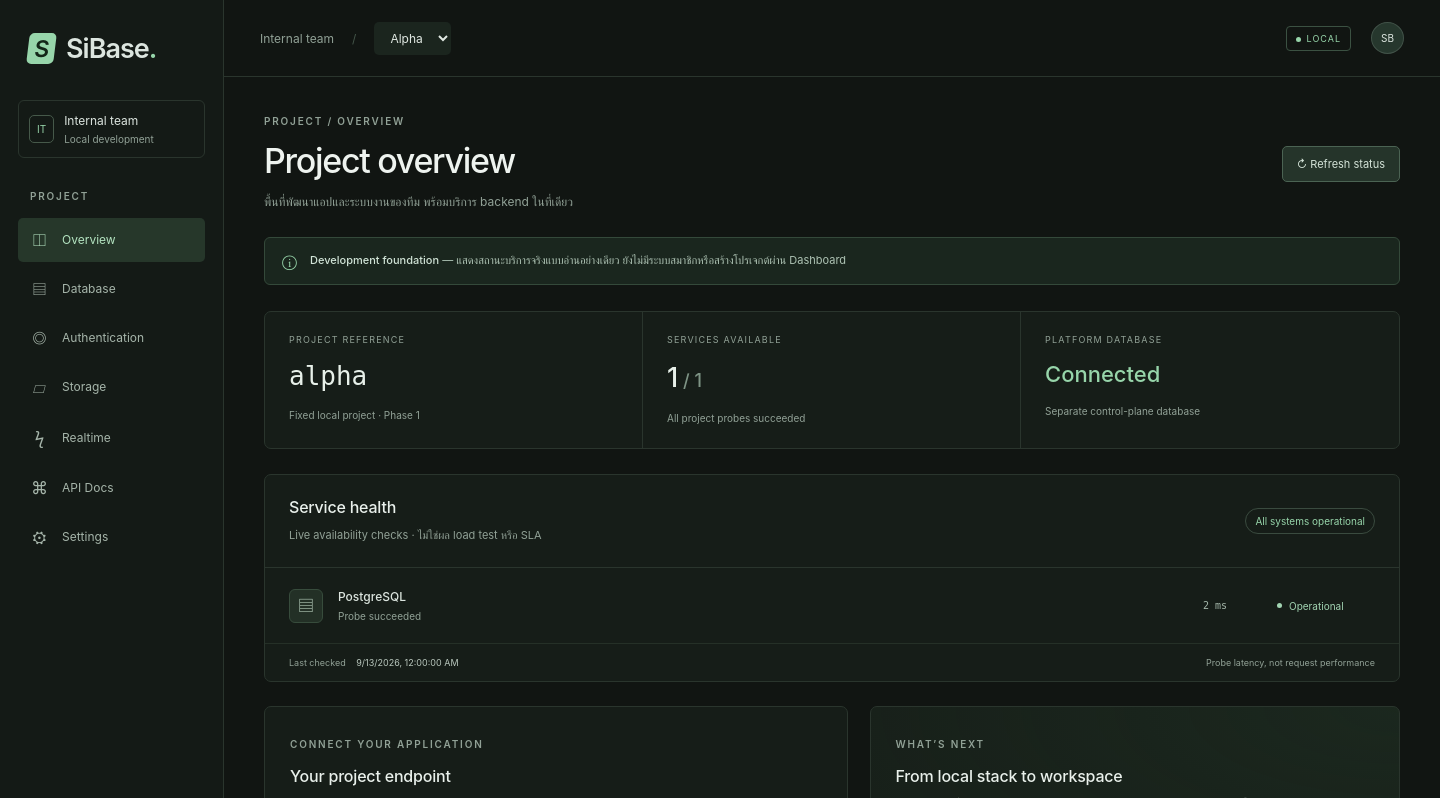
Test case: Dashboard foundation › does not present stale data as newly verified
Expected: the text "All systems operational" is shown, [1245,508,1375,534]
Click the button "↻ Refresh status".
click(1341, 164)  # box [1282,146,1400,182]
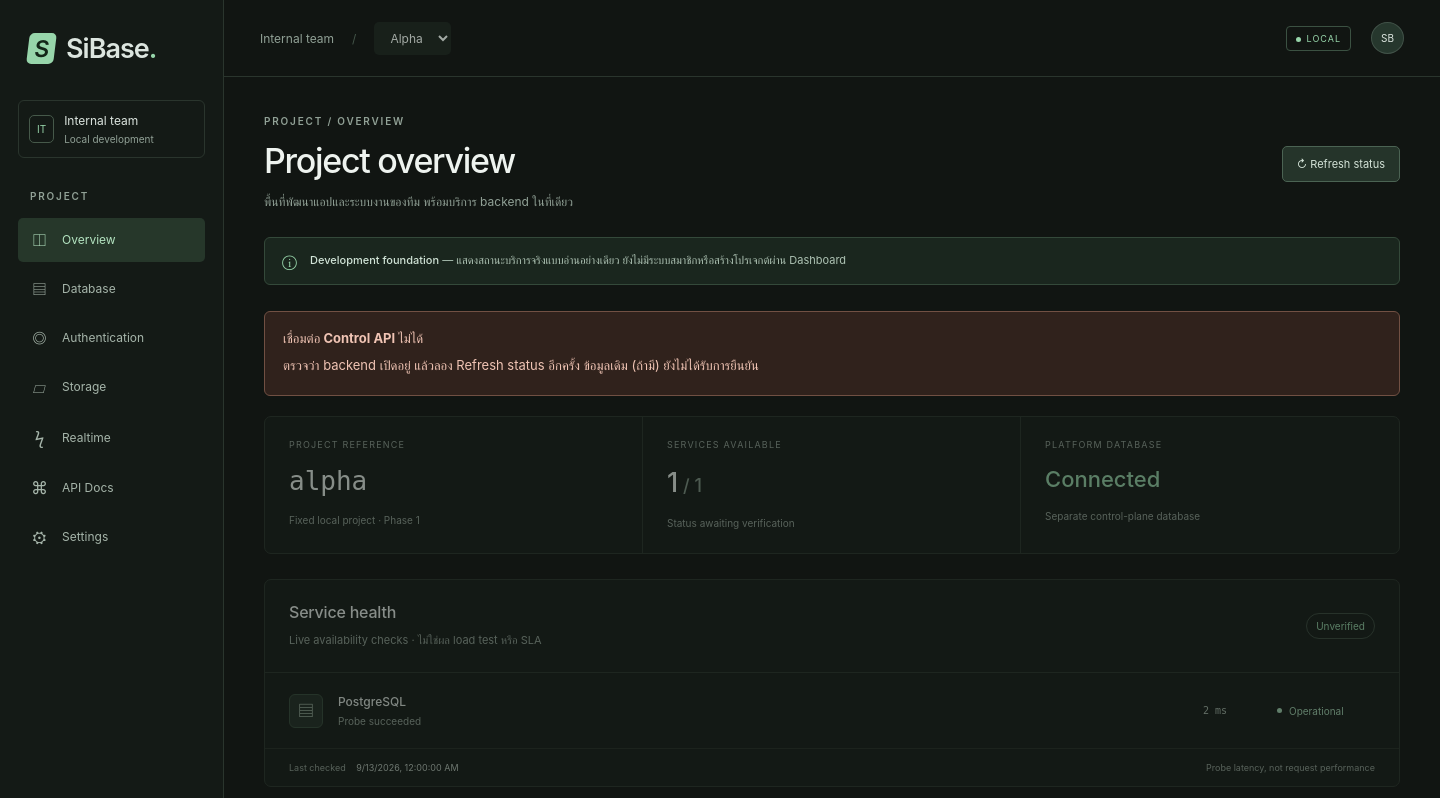
Now the message is shown, box [264,311,1400,396]
Now the text "Unverified" is shown, box [1306,613,1375,639]
